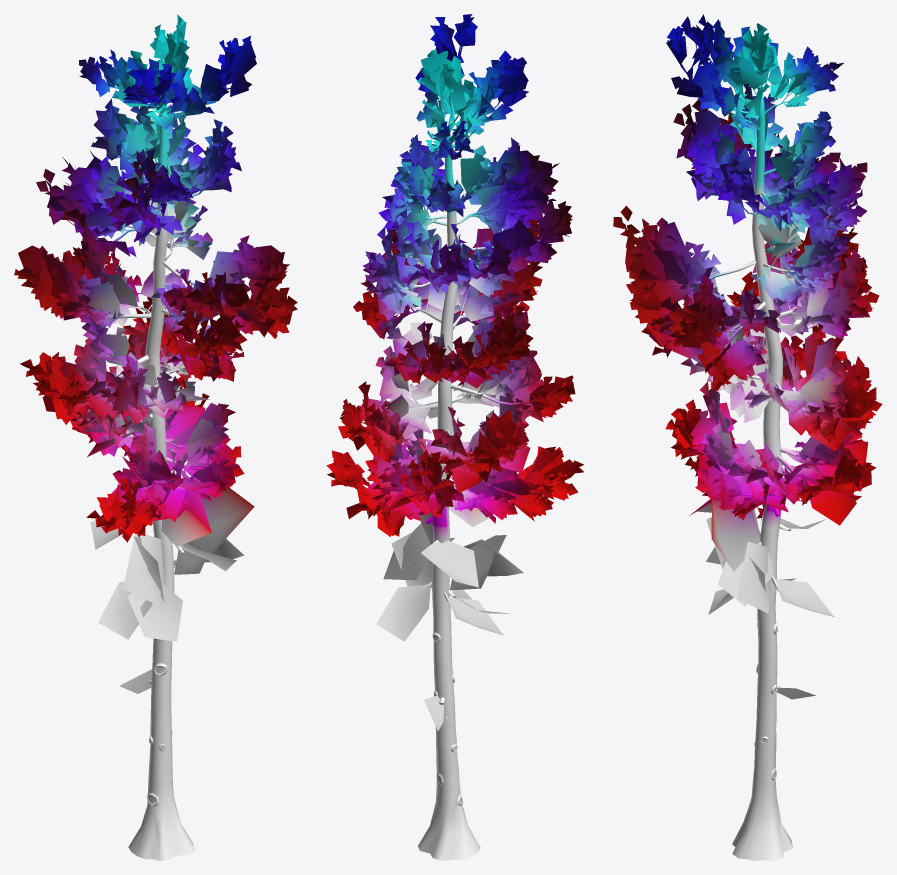
The model's file is arden_forest_conifer_02.fbx.
The picture shows the model from 3 angles, left to right: view 1: azimuth 30°, elevation 25°; view 2: azimuth 150°, elevation 25°; view 3: azimuth 270°, elevation 25°; orthographic projection. The views are drawn at different scales.
Parts seen in each view (by area): view 1: arden_forest_conifer_02; view 2: arden_forest_conifer_02; view 3: arden_forest_conifer_02.
Boxes of the visible parts, x1=… form: arden_forest_conifer_02: x1=14, y1=14, x2=297, y2=860; arden_forest_conifer_02: x1=326, y1=14, x2=583, y2=860; arden_forest_conifer_02: x1=613, y1=14, x2=882, y2=860.
Bounding box in the file's own units: 18.12 × 16.63 × 56.67.
